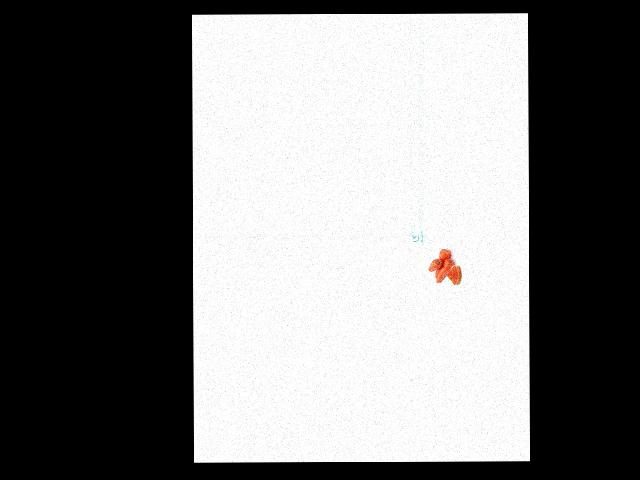carrot: (434, 258, 453, 284)
